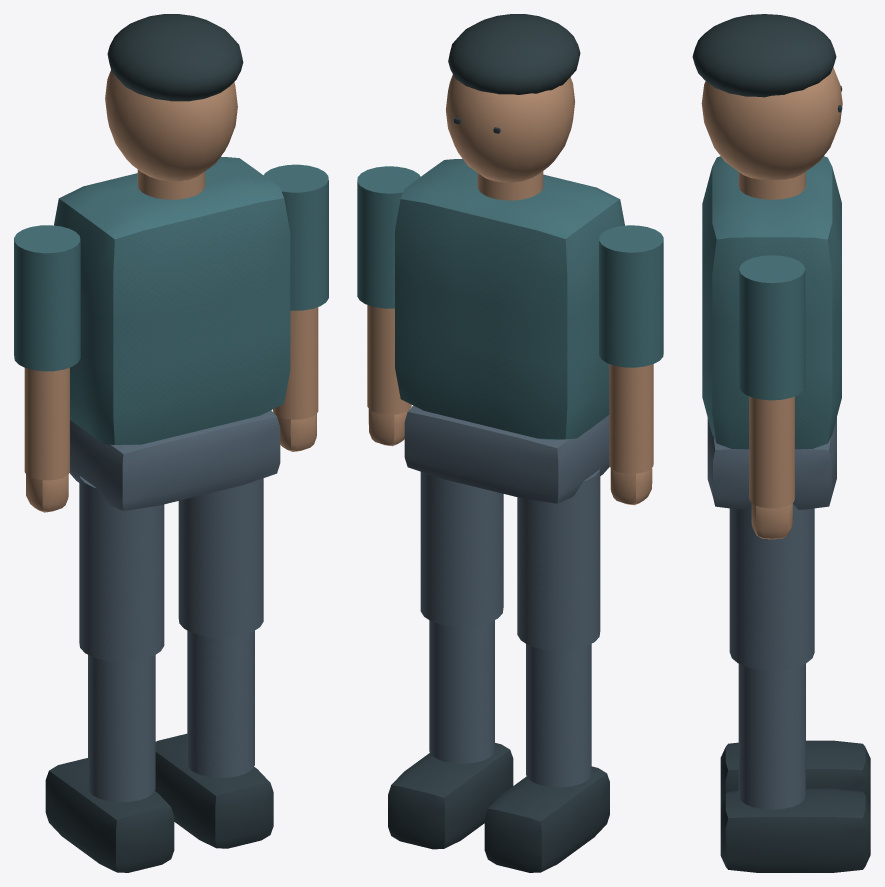
The model's file is visitor-avatar.glb.
The picture shows the model from 3 angles, left to right: view 1: azimuth 30°, elevation 25°; view 2: azimuth 150°, elevation 25°; view 3: azimuth 270°, elevation 25°; orthographic projection. The views are drawn at different scales.
Parts seen in each view (by area): view 1: visitor-avatar, leg-left, leg-right, arm-left, arm-right; view 2: visitor-avatar, leg-left, leg-right, arm-left, arm-right; view 3: visitor-avatar, leg-right, arm-right, leg-left.
Boxes of the visible parts, x1,y1,x2,y2 form: visitor-avatar: [54, 14, 290, 510]; leg-left: [45, 476, 174, 872]; leg-right: [155, 478, 273, 848]; arm-left: [14, 225, 80, 512]; arm-right: [263, 164, 328, 451]; visitor-avatar: [395, 14, 624, 503]; leg-left: [484, 469, 609, 872]; leg-right: [388, 472, 513, 849]; arm-left: [599, 225, 663, 505]; arm-right: [357, 166, 420, 446]; visitor-avatar: [692, 14, 842, 509]; leg-right: [720, 504, 870, 872]; arm-right: [739, 255, 805, 539]; leg-left: [720, 740, 870, 805].
Size of the model in its own units: 0.678 by 1.74 by 0.3442.
Materials: 19 (19 with a texture image).
